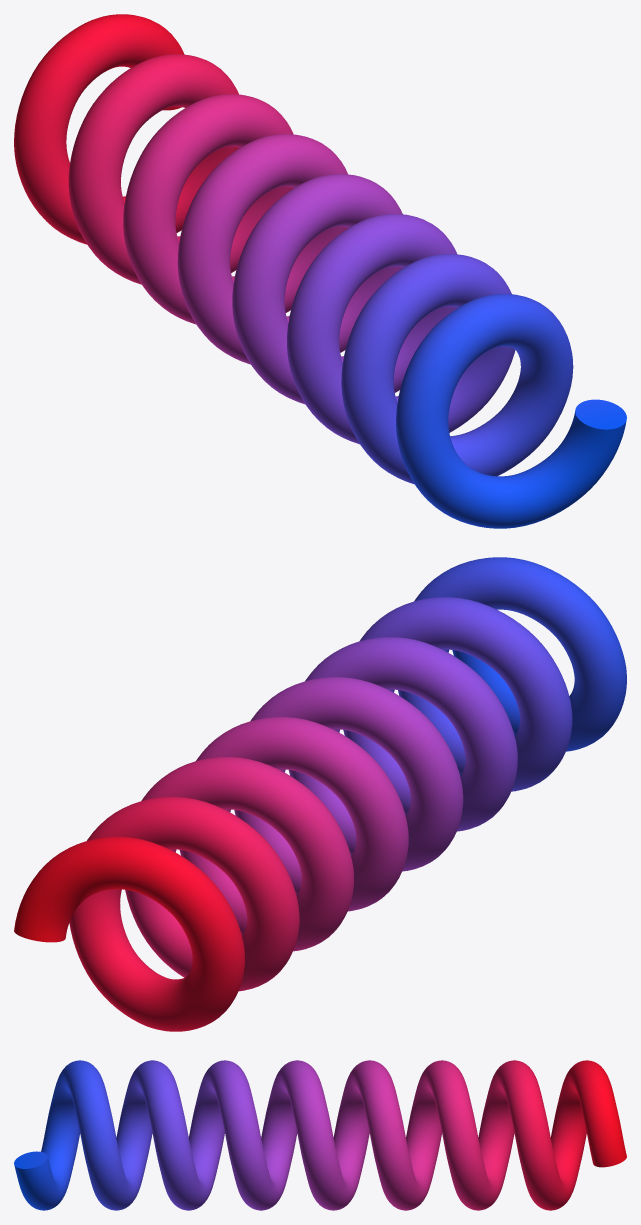
The model's file is NeedleTestNoodle_export3_01.glb.
3 views of the same model, one above another, from view 1: azimuth 30°, elevation 25°; view 2: azimuth 150°, elevation 25°; view 3: azimuth 270°, elevation 25° (orthographic). The views are drawn at different scales.
Parts seen in each view (by area): view 1: SweepHelix; view 2: SweepHelix; view 3: SweepHelix.
Part boxes in pixels (x1=…): SweepHelix: x1=14, y1=14, x2=626, y2=528; SweepHelix: x1=14, y1=557, x2=626, y2=1031; SweepHelix: x1=14, y1=1060, x2=626, y2=1210.
Size of what is drawn, in the model's own units: 130 by 130 by 529.
Materials: 1 (1 with a texture image).
